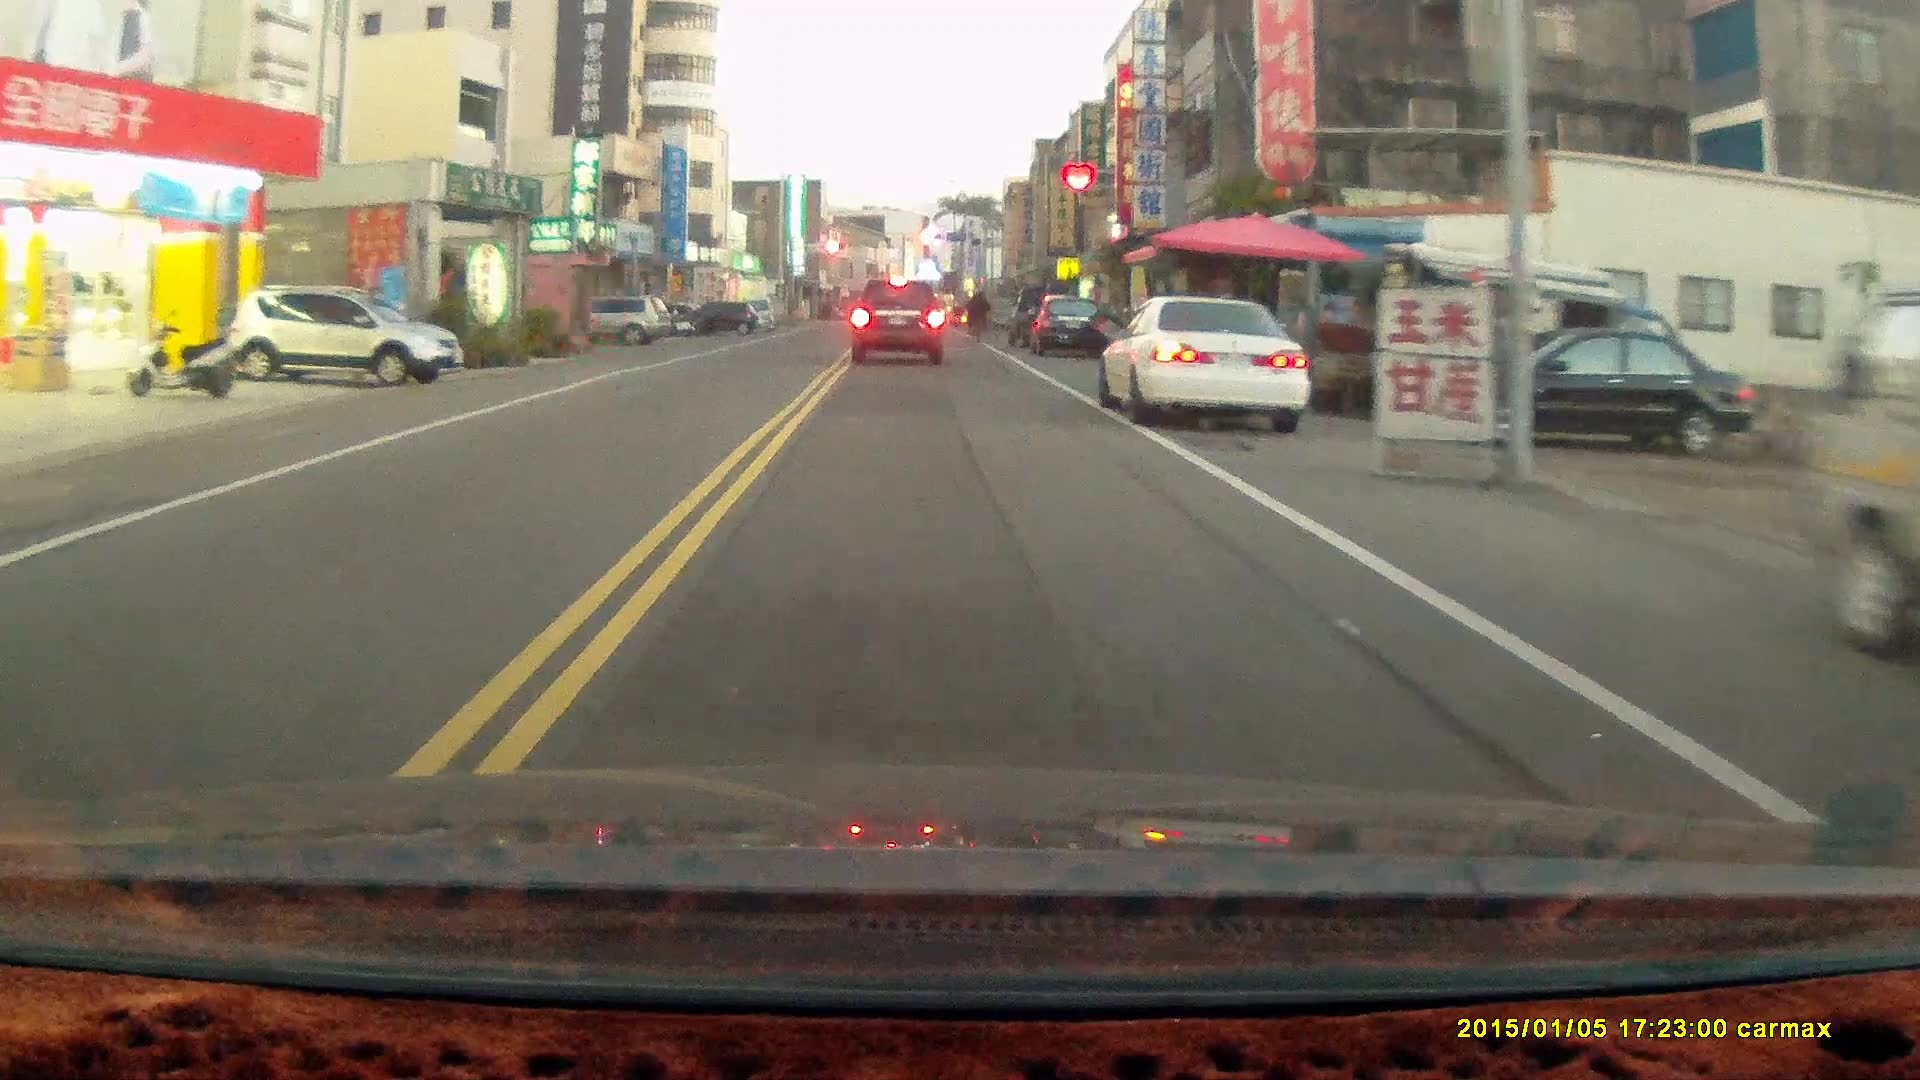rider: (966, 287, 990, 343)
vehicle: (1403, 321, 1757, 459), (1104, 296, 1311, 430), (225, 284, 462, 387), (849, 278, 950, 368), (573, 296, 674, 348), (1033, 295, 1108, 359)
